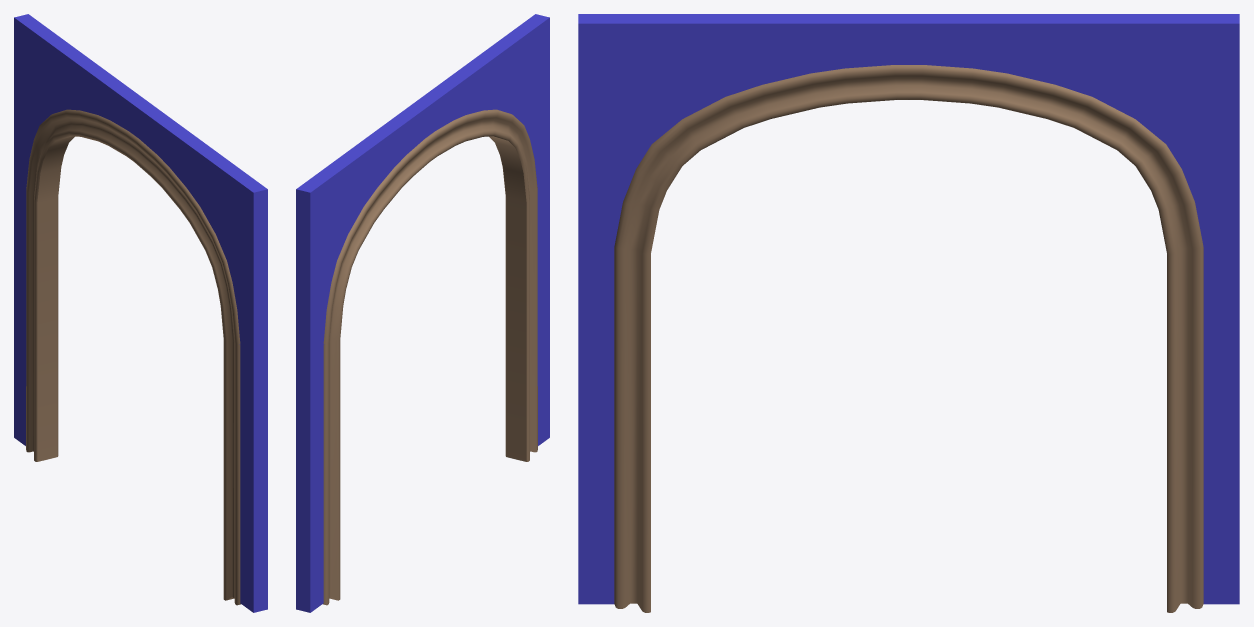
The model's file is SM_Arche10_low.fbx.
3 views of the same model, side by side, from view 1: azimuth 30°, elevation 25°; view 2: azimuth 150°, elevation 25°; view 3: azimuth 270°, elevation 25° (orthographic). The views are drawn at different scales.
Visible parts, largest first — view 1: SM_Arche10_low; view 2: SM_Arche10_low; view 3: SM_Arche10_low.
Boxes of the visible parts, x1,y1,x2,y2 form: SM_Arche10_low: (14,14,267,612); SM_Arche10_low: (296,14,549,612); SM_Arche10_low: (578,14,1239,612).
Bounding box in the file's own units: 54.65 × 978 × 1000.
